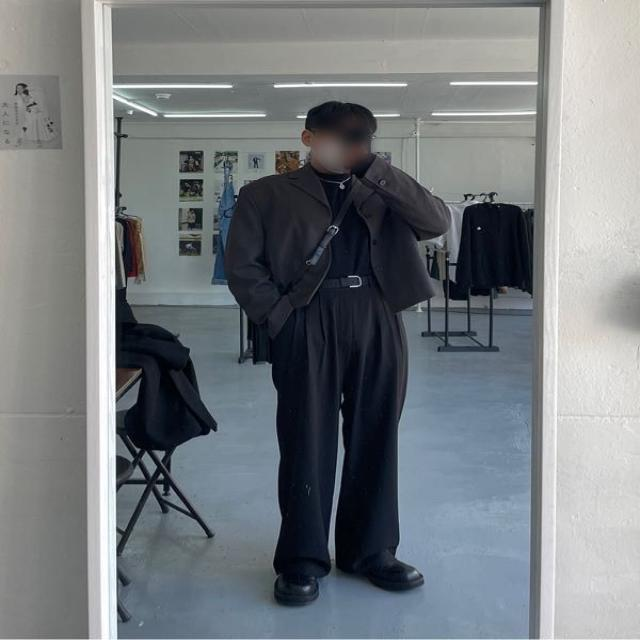blazer: (228, 153, 449, 327)
slacks: (267, 271, 411, 581)
